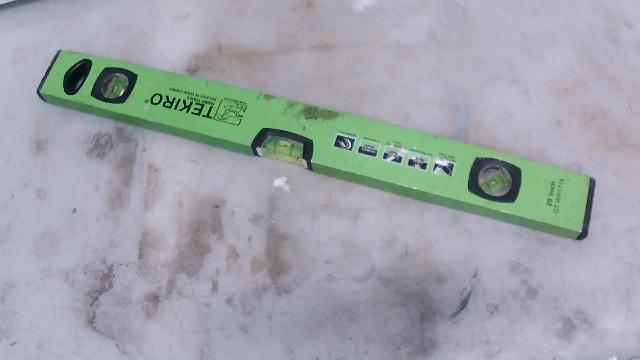water_pass: (21, 25, 629, 276)
